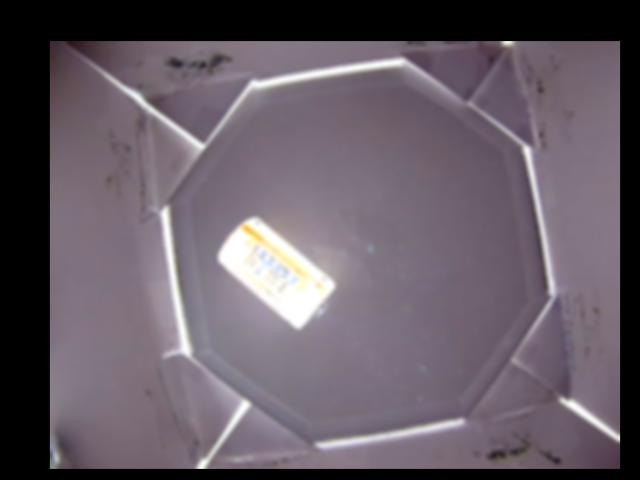Battery: (217, 214, 334, 329)
